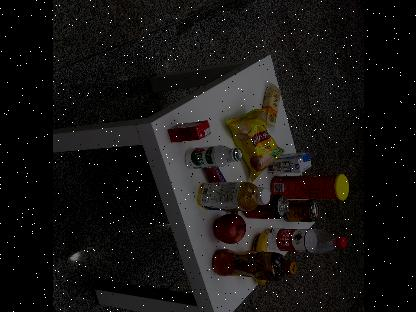Can: (244, 194, 288, 220), (283, 201, 319, 224)
Others: (270, 174, 350, 200), (166, 116, 212, 146), (264, 152, 314, 174)
Plastic Bottle: (266, 229, 348, 254)
